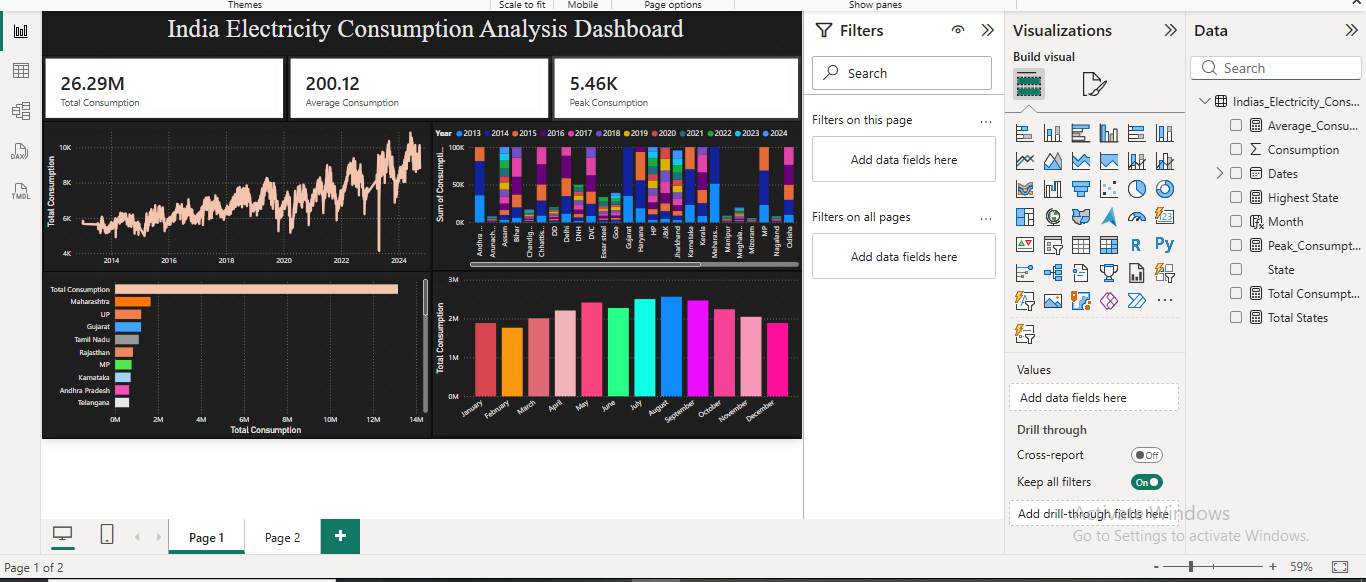

This screenshot's page, from the dashboard's own definition file:
{"tool":"powerbi","page":{"name":"Page 1","canvas":[1280,720],"ordinal":0},"visuals":[{"type":"lineChart","fields":{"Y":["Indias_Electricity_Consumption_Dataset.Total Consumption"],"Category":["Indias_Electricity_Consumption_Dataset.Dates.Variation.Date Hierarchy.Year","Indias_Electricity_Consumption_Dataset.Dates.Variation.Date Hierarchy.Quarter","Indias_Electricity_Consumption_Dataset.Dates.Variation.Date Hierarchy.Month","Indias_Electricity_Consumption_Dataset.Dates.Variation.Date Hierarchy.Day"]},"box":[2,186,654,254],"z":0},{"type":"clusteredBarChart","fields":{"Category":["Indias_Electricity_Consumption_Dataset.State"],"Y":["Indias_Electricity_Consumption_Dataset.Total Consumption"]},"box":[0,438,656,282],"z":1000},{"type":"clusteredColumnChart","fields":{"Category":["Indias_Electricity_Consumption_Dataset.Dates.Variation.Date Hierarchy.Month"],"Y":["Indias_Electricity_Consumption_Dataset.Total Consumption"]},"box":[656,438,624,280],"z":2000},{"type":"pivotTable","fields":{"Rows":["Indias_Electricity_Consumption_Dataset.Consumption"],"Values":["Sum(Indias_Electricity_Consumption_Dataset.Consumption)"],"Columns":["Indias_Electricity_Consumption_Dataset.Month"]},"box":[656,186,624,252],"z":3000},{"type":"cardVisual","fields":{"Data":["Indias_Electricity_Consumption_Dataset.Total Consumption"]},"box":[0,74,412,112],"z":3001},{"type":"cardVisual","fields":{"Data":["Indias_Electricity_Consumption_Dataset.Average_Consumption"]},"box":[412,74,446,112],"z":3002},{"type":"cardVisual","fields":{"Data":["Indias_Electricity_Consumption_Dataset.Peak_Consumption"]},"box":[858,74,422,112],"z":3003},{"type":"textbox","box":[2,0,1278,88],"z":3004}]}

Visuals, with their boxes on the page's 1280x720 design canvas (x1, y1, x2, y2). These are canvas units, not pixel positions in the 1366x582 screenshot, which may show the page scaled, cropped or inside an application window:
lineChart - Indias_Electricity_Consumption_Dataset.Total Consumption x Indias_Electricity_Consumption_Dataset.Dates.Variation.Date Hierarchy.Year: 2/186/656/440
clusteredBarChart - Indias_Electricity_Consumption_Dataset.State x Indias_Electricity_Consumption_Dataset.Total Consumption: 0/438/656/720
clusteredColumnChart - Indias_Electricity_Consumption_Dataset.Dates.Variation.Date Hierarchy.Month x Indias_Electricity_Consumption_Dataset.Total Consumption: 656/438/1280/718
pivotTable - Indias_Electricity_Consumption_Dataset.Consumption x Sum(Indias_Electricity_Consumption_Dataset.Consumption): 656/186/1280/438
cardVisual - Indias_Electricity_Consumption_Dataset.Total Consumption: 0/74/412/186
cardVisual - Indias_Electricity_Consumption_Dataset.Average_Consumption: 412/74/858/186
cardVisual - Indias_Electricity_Consumption_Dataset.Peak_Consumption: 858/74/1280/186
textbox: 2/0/1280/88
